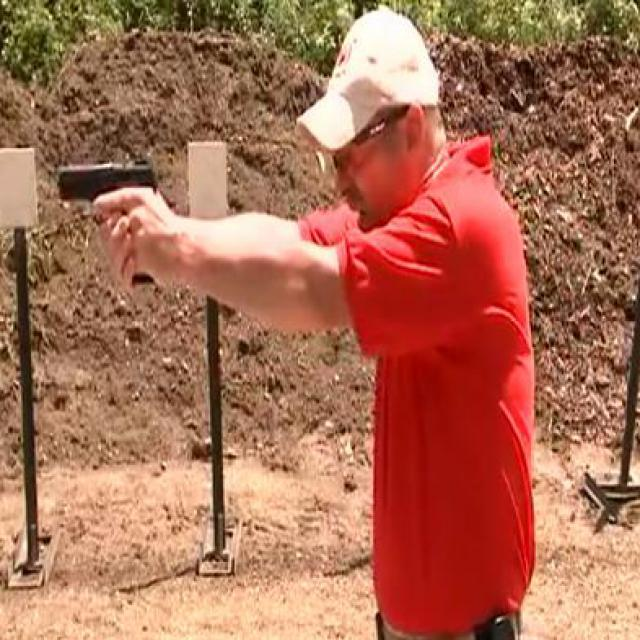Gun: (57, 158, 163, 286)
